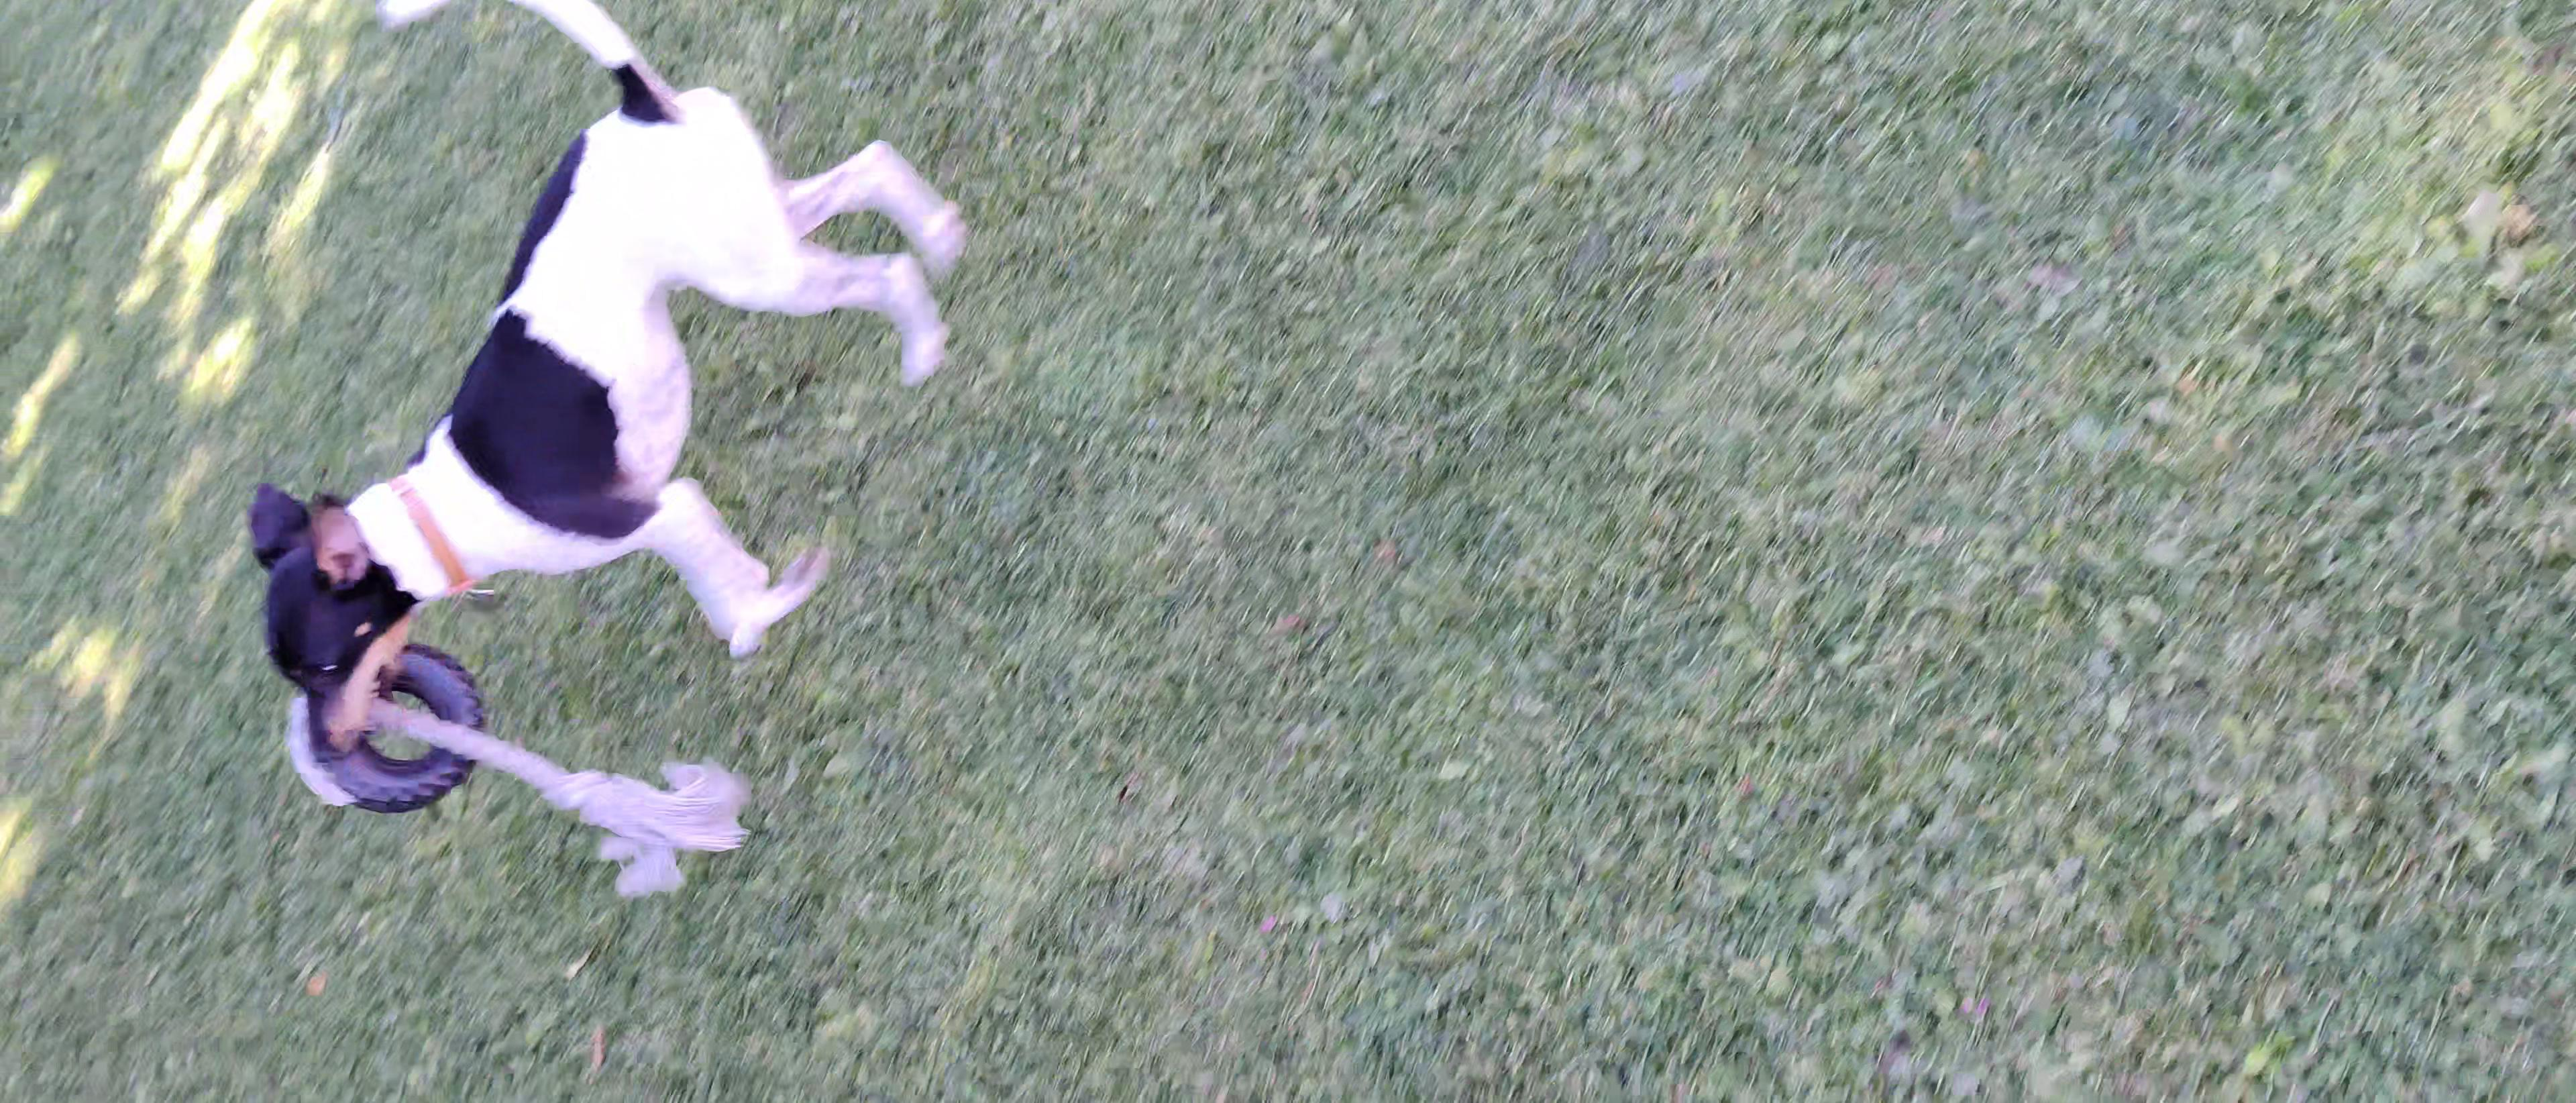Dog: (237, 0, 973, 768)
